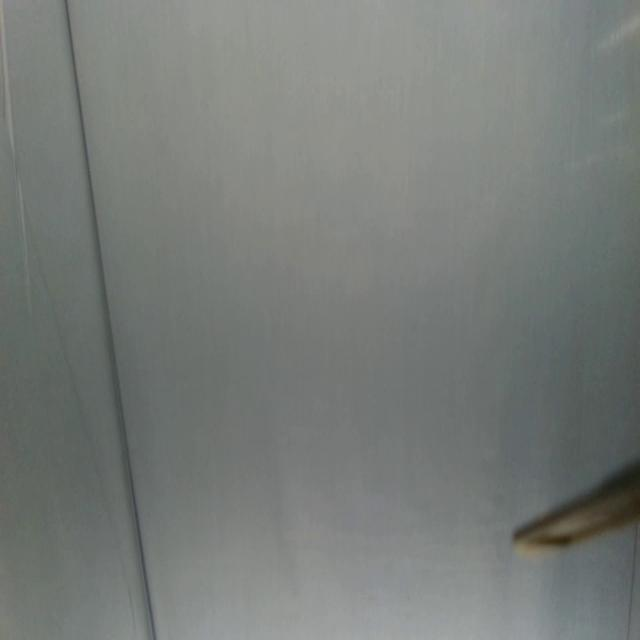crease: (66, 0, 159, 640), (0, 0, 31, 324), (625, 520, 639, 640)
